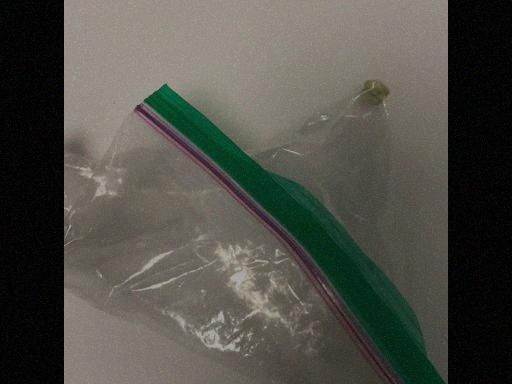trash: (68, 80, 435, 382)
